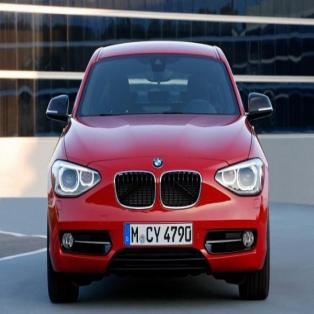Auto: (45, 37, 274, 301)
